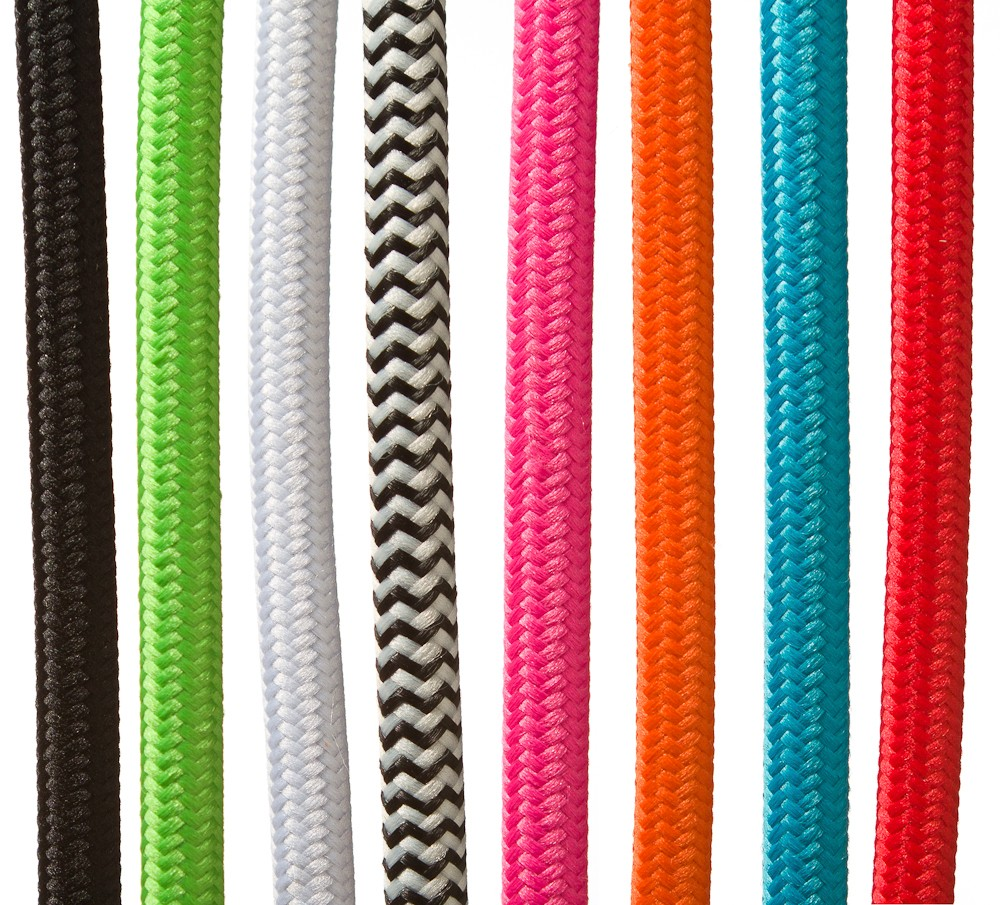Nonrec_Tangler: (9, 11, 975, 891)
